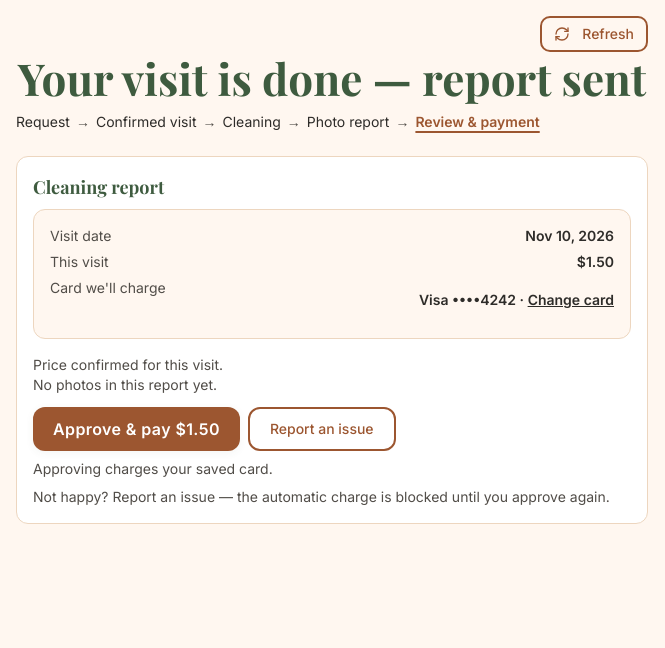
Test: S13 (visit): Approve with an ambiguous card leads to the card-choice flow › shows the card-choice message and a link to /save-card in the report section
Click the button "Approve & pay $1.50": (136, 429) [33,407,240,451]
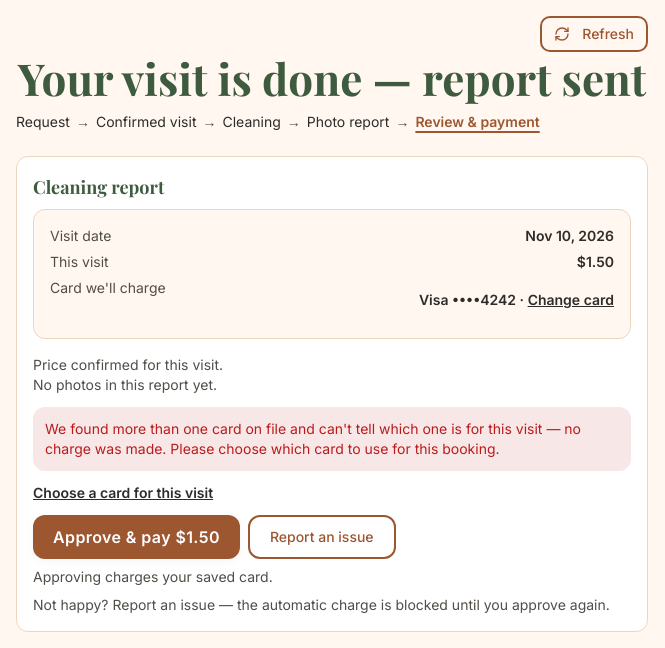
Now the text "We found more than one card on file" is shown, box [45,420,581,457]
